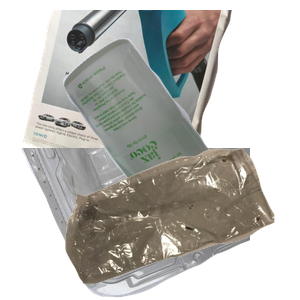glass: (60, 36, 300, 216)
paper: (20, 10, 244, 190)
plastic: (19, 148, 259, 300)
trash: (63, 145, 300, 300)
